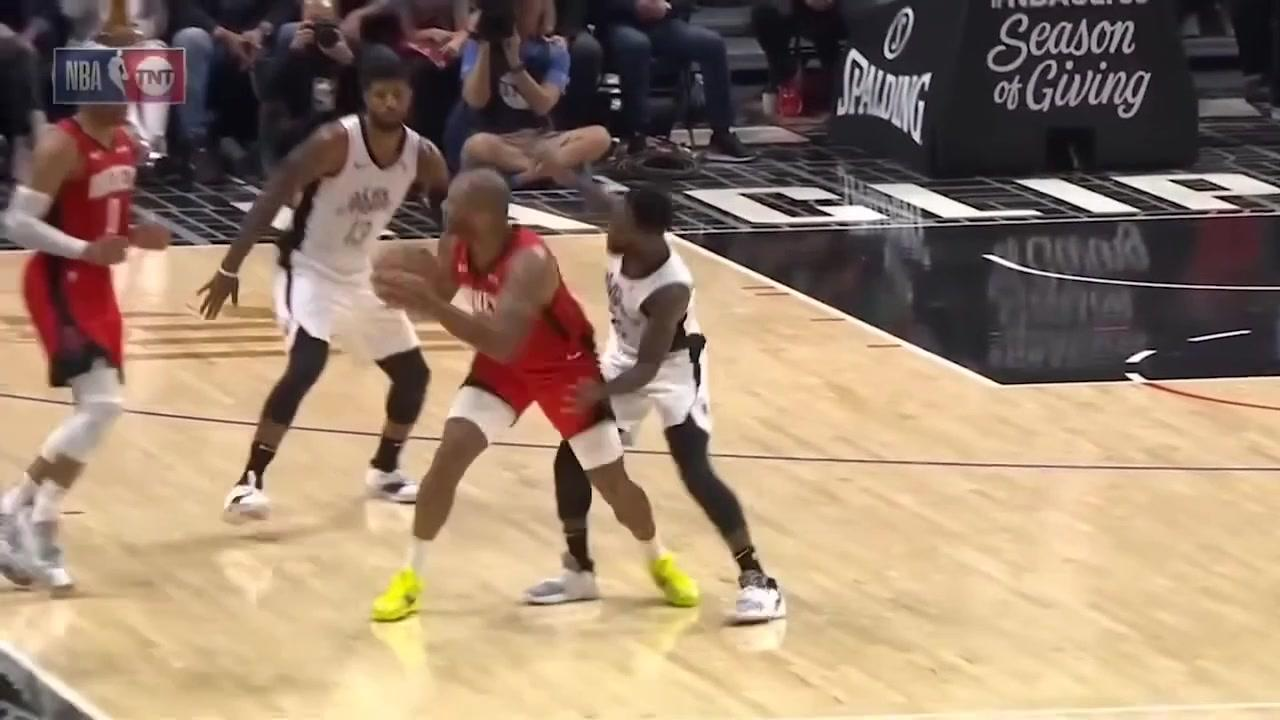foul: (392, 189, 815, 632)
